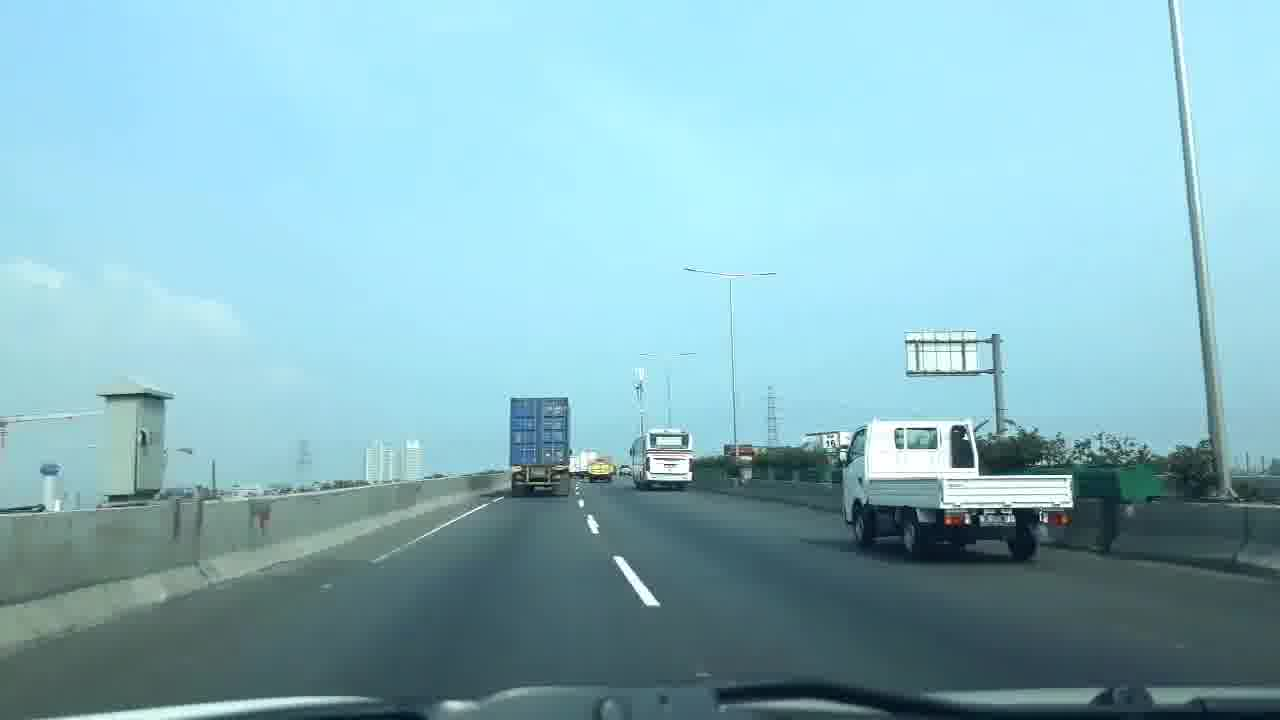plate_positive: (978, 514, 1017, 528)
